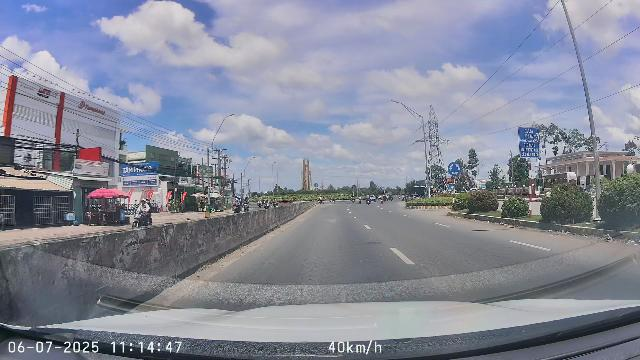303-noi-giao-nhau-chay-theo-vong-xuyen: (447, 161, 462, 176)
